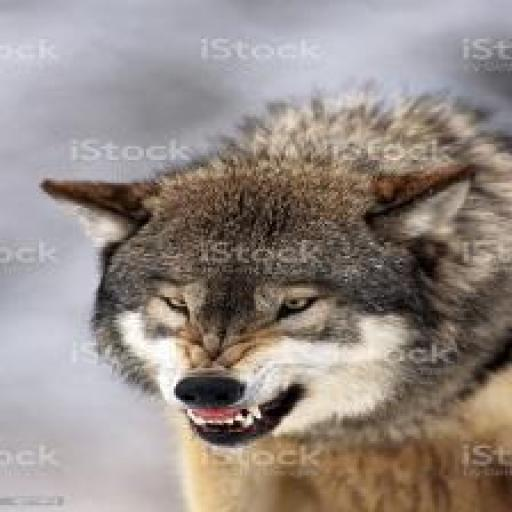wolf: (16, 73, 512, 511)
